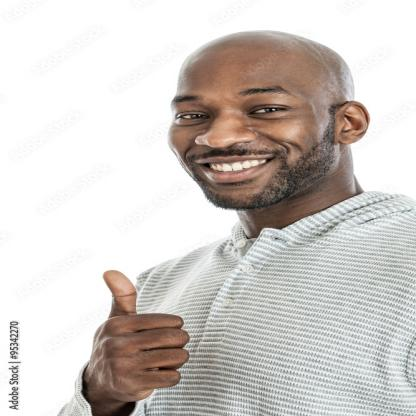Thumbs-Up: (85, 262, 192, 406)
